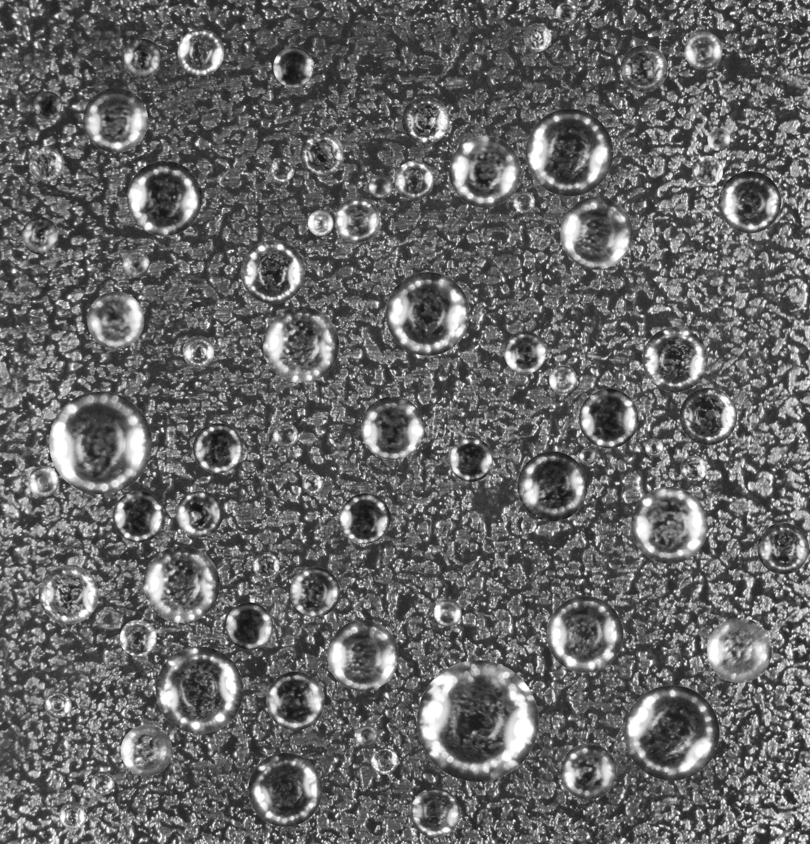Bubble: (417, 660, 538, 781), (49, 391, 151, 494), (624, 685, 719, 780), (525, 108, 613, 196), (155, 646, 243, 733), (386, 272, 469, 355), (546, 596, 623, 672), (262, 306, 338, 382), (631, 487, 707, 563), (143, 546, 219, 622), (127, 160, 201, 235), (248, 753, 322, 826), (560, 196, 632, 269), (449, 135, 521, 207), (327, 620, 398, 691), (517, 451, 587, 521), (642, 327, 707, 392), (83, 87, 147, 152), (241, 239, 305, 303), (707, 618, 771, 682), (361, 396, 424, 459), (719, 171, 781, 233), (38, 564, 98, 624), (579, 388, 638, 448), (266, 671, 324, 730), (679, 387, 737, 445), (87, 291, 144, 348), (560, 743, 616, 799), (757, 522, 809, 574), (120, 725, 172, 776), (112, 491, 164, 542), (340, 493, 390, 543), (290, 567, 340, 617), (192, 423, 242, 473), (410, 788, 460, 837), (401, 96, 449, 144), (225, 602, 273, 649), (620, 45, 667, 92), (177, 29, 224, 75), (176, 491, 222, 537), (334, 197, 379, 242), (449, 437, 493, 481), (300, 132, 344, 176), (504, 331, 546, 373), (273, 46, 313, 87), (394, 160, 433, 199), (122, 38, 161, 77), (684, 31, 722, 69), (119, 619, 156, 656), (21, 217, 58, 254), (28, 145, 64, 181), (182, 335, 214, 367), (692, 155, 723, 186), (28, 466, 58, 496), (523, 23, 551, 51), (549, 365, 577, 393), (33, 91, 61, 119), (433, 599, 461, 626), (370, 747, 398, 774), (122, 250, 149, 277), (44, 691, 71, 718), (59, 802, 86, 829), (252, 552, 279, 579), (680, 455, 706, 482), (307, 210, 333, 235), (273, 423, 298, 447), (368, 174, 392, 198), (90, 771, 114, 795), (270, 157, 294, 181), (707, 128, 730, 150), (513, 191, 535, 213), (356, 725, 377, 746), (556, 1, 577, 22), (302, 473, 322, 494), (645, 438, 663, 457), (579, 448, 596, 464), (521, 517, 536, 533), (714, 230, 728, 244), (717, 283, 730, 295), (53, 773, 61, 781)
